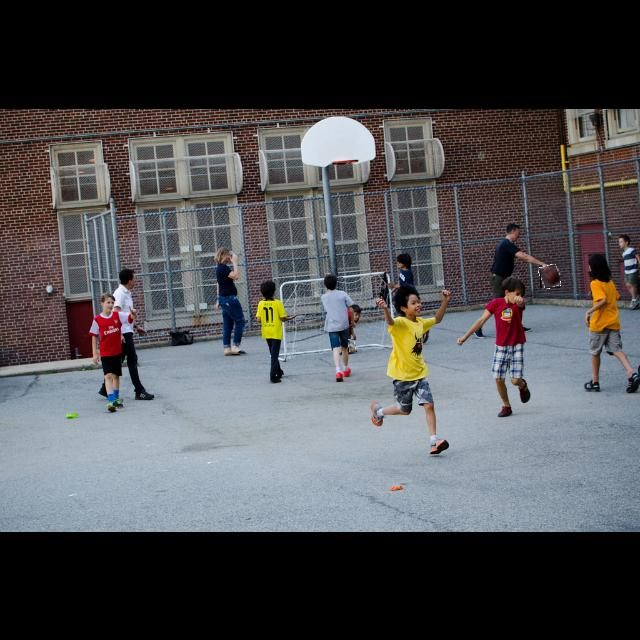Football: (540, 266, 560, 288), (348, 339, 356, 353)
